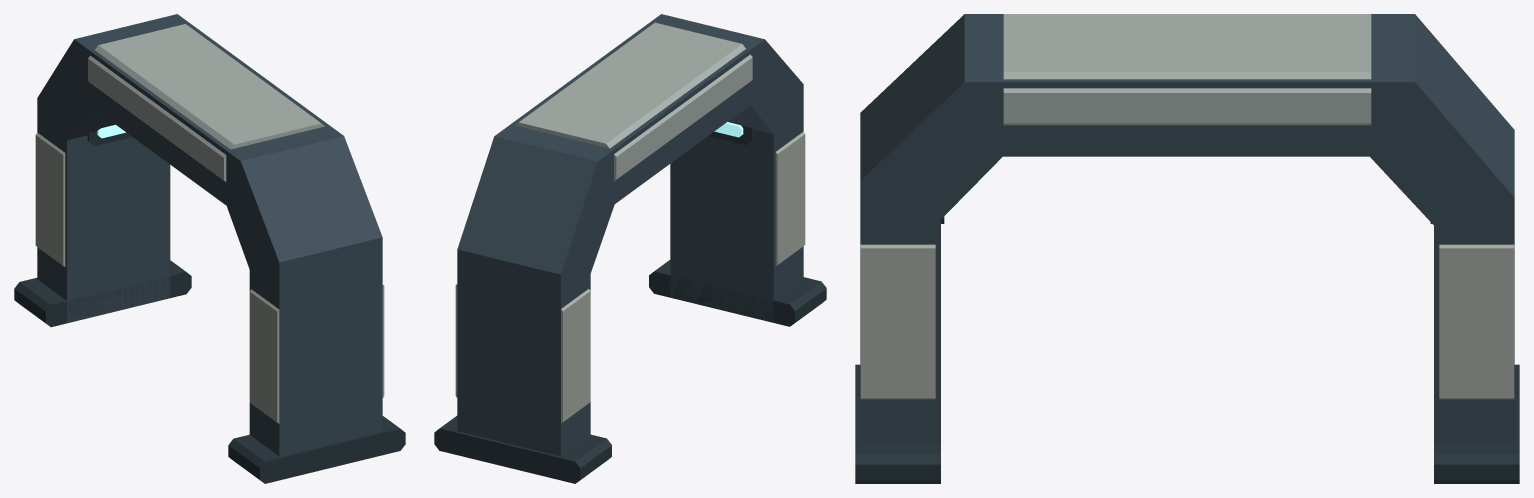
File: MR-05_reader_arch.glb
The picture shows the model from 3 angles, left to right: view 1: azimuth 30°, elevation 25°; view 2: azimuth 150°, elevation 25°; view 3: azimuth 270°, elevation 25°; orthographic projection. The views are drawn at different scales.
Parts seen in each view (by area): view 1: MR-05_reader_arch; view 2: MR-05_reader_arch; view 3: MR-05_reader_arch.
Part boxes in pixels (x1,y1,x2,y2): MR-05_reader_arch: (14, 14, 405, 483); MR-05_reader_arch: (434, 14, 826, 483); MR-05_reader_arch: (855, 14, 1519, 483).
Bounding box in the file's own units: 0.48 × 0.9225 × 1.4.
